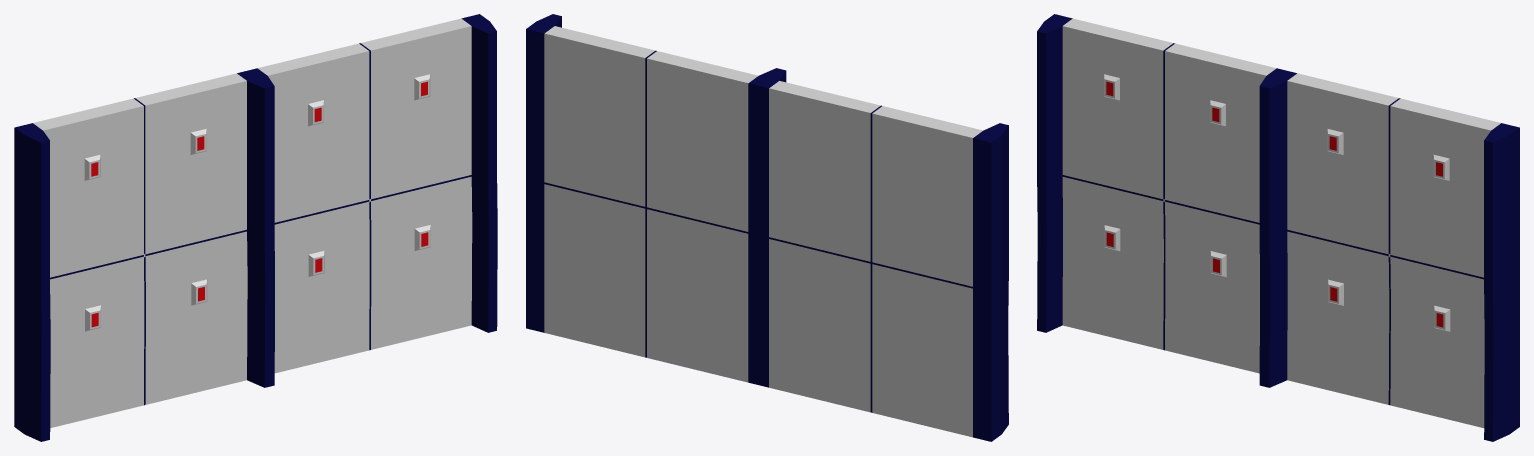
The model's file is Object_Tutorial_Background.fbx.
The picture shows the model from 3 angles, left to right: view 1: azimuth 30°, elevation 25°; view 2: azimuth 150°, elevation 25°; view 3: azimuth 330°, elevation 25°; orthographic projection.
Visible parts, largest first — view 1: Objcet_Tutorial_Background.001; view 2: Objcet_Tutorial_Background.001; view 3: Objcet_Tutorial_Background.001.
Boxes of the visible parts, <box> form: Objcet_Tutorial_Background.001: <box>14,14,497,441</box>; Objcet_Tutorial_Background.001: <box>526,14,1008,441</box>; Objcet_Tutorial_Background.001: <box>1037,14,1519,441</box>.
Bounding box in the file's own units: 5211 × 3200 × 438.
